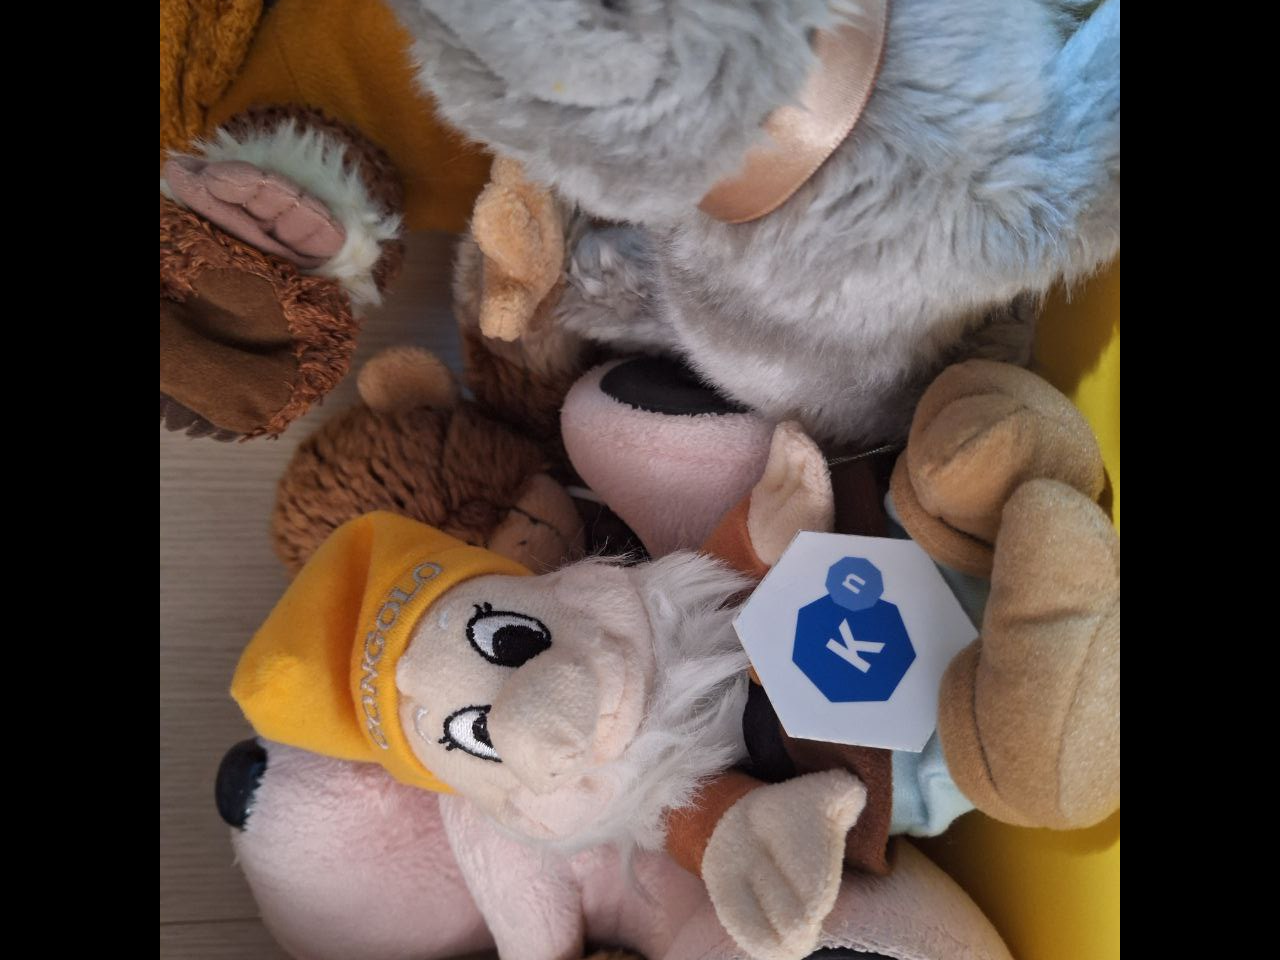knative: (788, 556, 921, 706)
